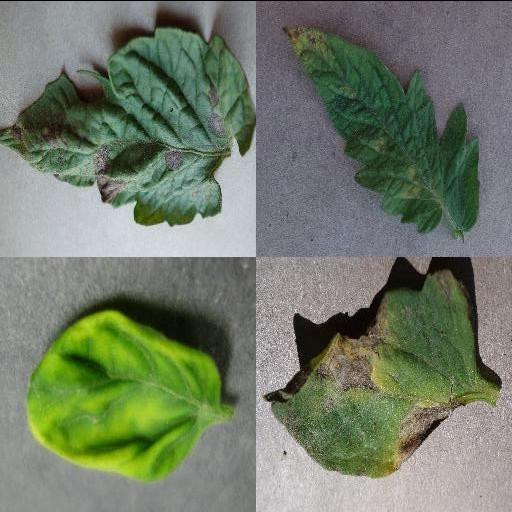Early Blight: (0, 23, 256, 225), (263, 268, 477, 478)
Leaf Mold: (280, 21, 482, 235)
Yellow Leaf Curl Virus: (26, 309, 222, 483)
